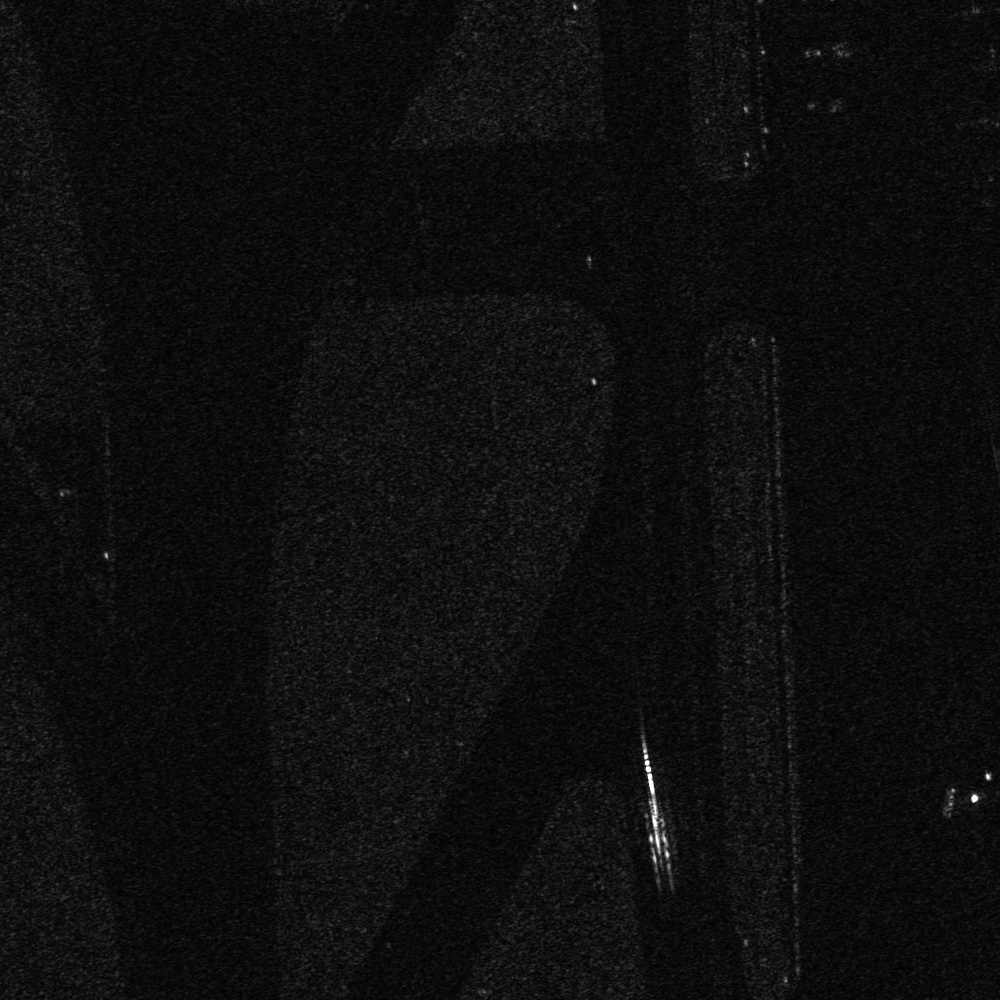ARJ21: (793, 37, 863, 66), (801, 90, 855, 119)
